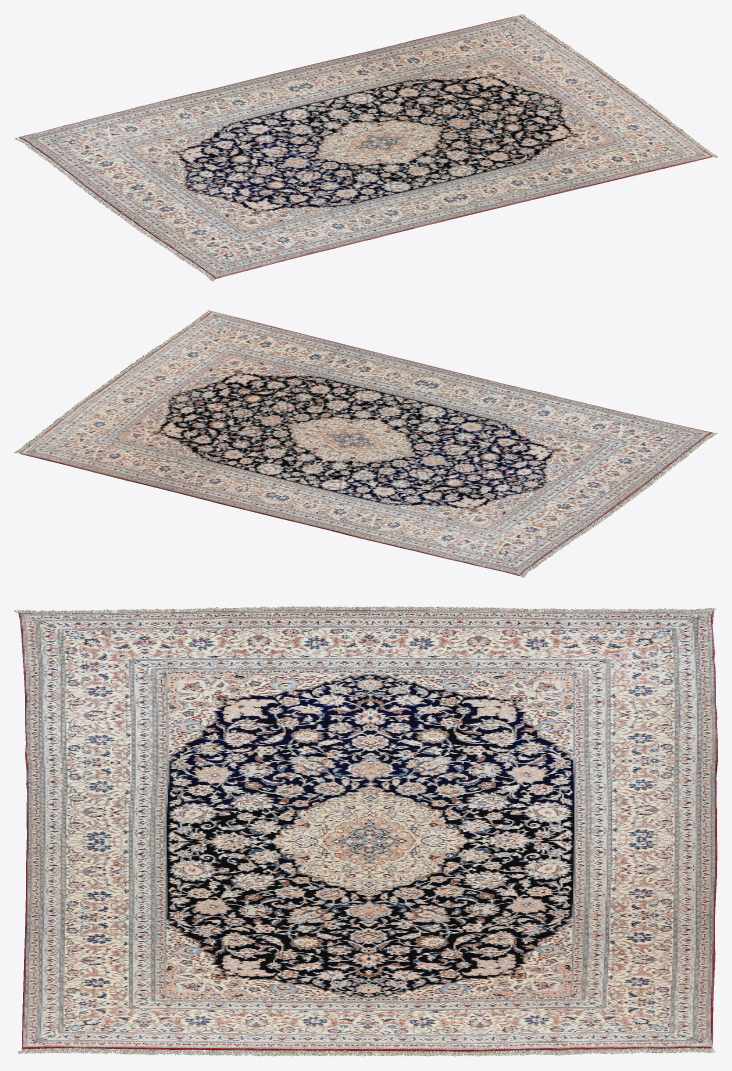
The model's file is persian.glb.
3 views of the same model, one above another, from view 1: azimuth 30°, elevation 25°; view 2: azimuth 150°, elevation 25°; view 3: azimuth 270°, elevation 25° (orthographic). The views are drawn at different scales.
Visible parts, largest first — view 1: Old Persian Tudeshk Carpet_2, frange1_0, frange2_1; view 2: Old Persian Tudeshk Carpet_2, frange1_0, frange2_1; view 3: Old Persian Tudeshk Carpet_2, frange2_1, frange1_0.
Part boxes in pixels (left/top/right/bottom): Old Persian Tudeshk Carpet_2: left=19, top=15, right=712, bottom=279; frange1_0: left=14, top=137, right=214, bottom=281; frange2_1: left=520, top=14, right=717, bottom=157; Old Persian Tudeshk Carpet_2: left=19, top=311, right=711, bottom=575; frange1_0: left=520, top=432, right=717, bottom=577; frange2_1: left=14, top=310, right=210, bottom=453; Old Persian Tudeshk Carpet_2: left=18, top=610, right=717, bottom=1051; frange2_1: left=17, top=1047, right=715, bottom=1056; frange1_0: left=14, top=606, right=716, bottom=613.
Bounding box in the file's own units: 3.04 × 0.0159 × 2.02.
Materials: 2 (1 with a texture image).
